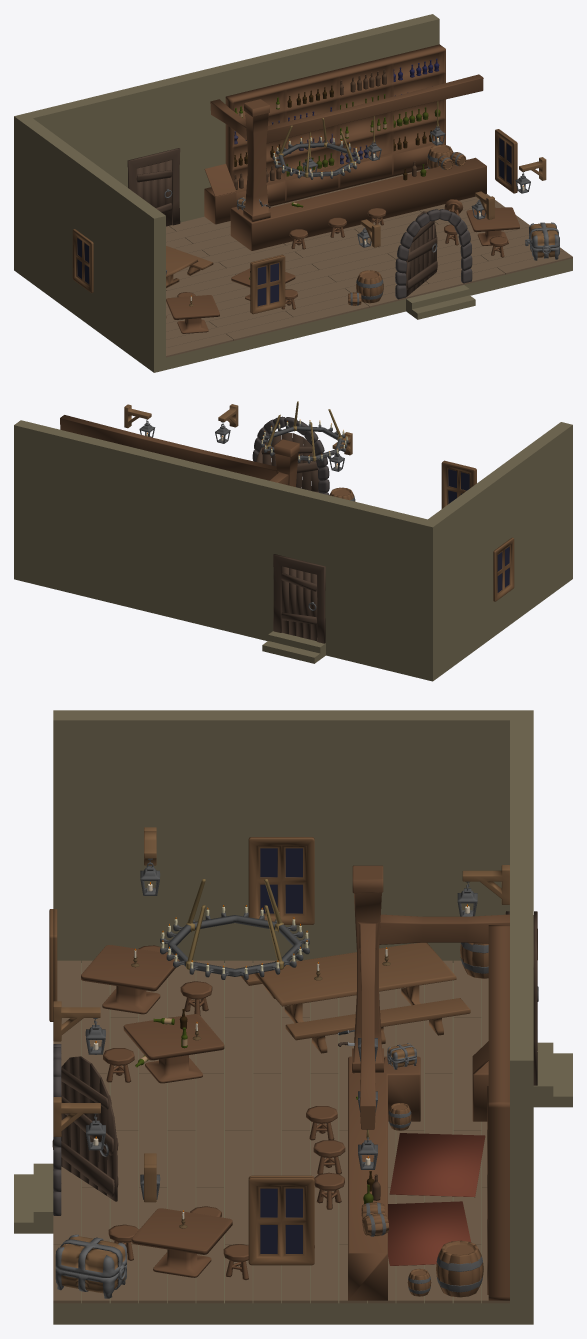
File: taverna.gltf
3 renders of one model, top to bottom at view 1: azimuth 30°, elevation 25°; view 2: azimuth 150°, elevation 25°; view 3: azimuth 270°, elevation 25°, orthographic. The views are drawn at different scales.
Parts seen in each view (by area): view 1: Struttura, Pavimento, Scaffale, Bancone, Porta_retro, Tavolo (×2), Pietra_ingresso, Porta_ingresso, Finestra.006, Lampadario.001, Forziere, Finestra.003 (+5 smaller); view 2: Struttura, Bancone, Porta_retro.001, Porta_ingresso, Pietra_ingresso, Lampadario.001, Finestra.003, Finestra.001, Corde_lampadario, Finestra_vetri.001, Finestra_vetri.004; view 3: Struttura, Pavimento, Bancone, Tavolo (×3), Scaffale, Tavola_lunga, Porta_ingresso, Tappeto, Tappeto.001, Finestra.004, Sgabello (×5), Finestra.002 (+10 smaller).
Part boxes in pixels (box(x1,y1,x2,y2)): Struttura: box(14, 14, 572, 372); Pavimento: box(166, 168, 572, 357); Scaffale: box(225, 44, 445, 206); Bancone: box(204, 74, 486, 250); Porta_retro: box(127, 148, 180, 226); Tavolo (×2): box(166, 207, 519, 333); Pietra_ingresso: box(395, 209, 472, 299); Porta_ingresso: box(405, 211, 437, 296); Finestra.006: box(251, 255, 285, 314); Lampadario.001: box(272, 137, 360, 179); Forziere: box(525, 222, 559, 260); Finestra.003: box(72, 229, 93, 293); Struttura: box(14, 420, 572, 681); Bancone: box(60, 415, 299, 486); Porta_retro.001: box(273, 554, 325, 643); Porta_ingresso: box(256, 433, 319, 492); Pietra_ingresso: box(252, 416, 329, 495); Lampadario.001: box(260, 420, 348, 463); Finestra.003: box(493, 537, 514, 601); Finestra.001: box(441, 461, 475, 508); Corde_lampadario: box(266, 401, 342, 461); Finestra_vetri.001: box(448, 469, 469, 503); Finestra_vetri.004: box(497, 546, 509, 592); Struttura: box(14, 710, 572, 1324); Pavimento: box(53, 960, 509, 1303); Bancone: box(348, 865, 509, 1300); Tavolo (×3): box(81, 945, 232, 1277); Scaffale: box(487, 925, 509, 1300); Tavola_lunga: box(254, 942, 456, 1023); Porta_ingresso: box(52, 1056, 118, 1201); Tappeto: box(389, 1133, 485, 1197); Tappeto.001: box(388, 1201, 470, 1265); Finestra.004: box(248, 1177, 314, 1265); Sgabello (×5): box(103, 981, 345, 1209); Finestra.002: box(248, 837, 314, 924).
Size of the model in its own units: 10.61 by 3.7 by 7.09.
